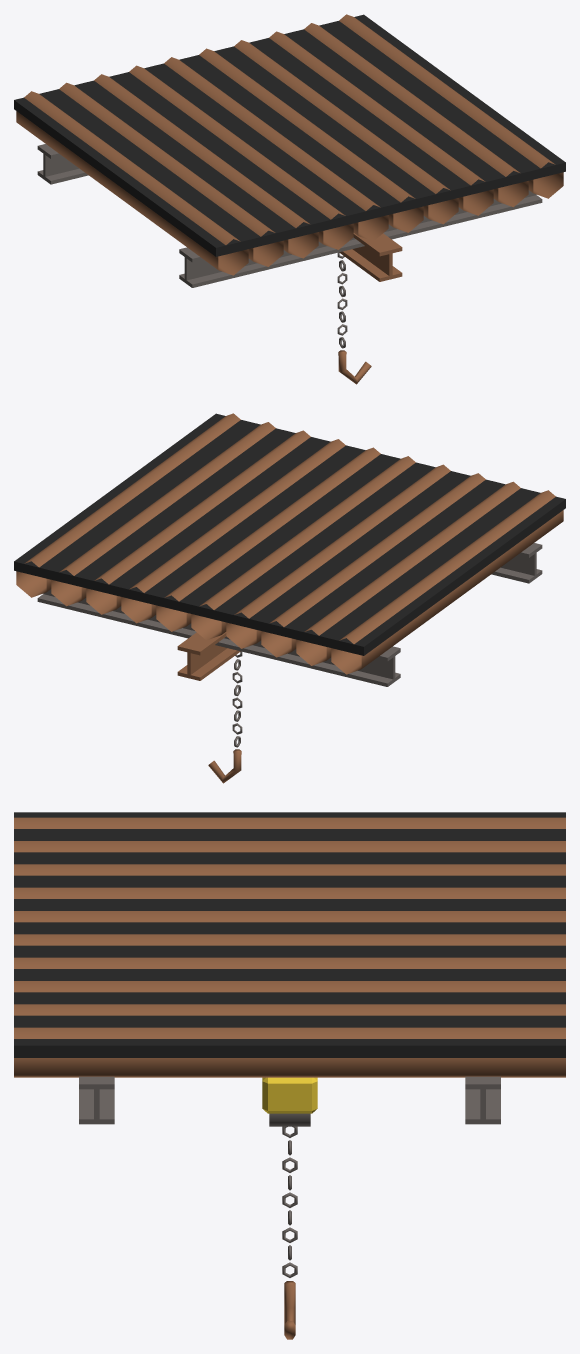
The model's file is ceil_wk_hoist.glb.
3 views of the same model, one above another, from view 1: azimuth 30°, elevation 25°; view 2: azimuth 150°, elevation 25°; view 3: azimuth 270°, elevation 25° (orthographic). The views are drawn at different scales.
Visible parts, largest first — view 1: ceil_wk_hoist; view 2: ceil_wk_hoist; view 3: ceil_wk_hoist.
Part boxes in pixels (bbox=[...]): ceil_wk_hoist: bbox=[14, 14, 565, 384]; ceil_wk_hoist: bbox=[14, 413, 565, 783]; ceil_wk_hoist: bbox=[14, 812, 565, 1339].
Size of the model in its own units: 4 by 2.98 by 4.
